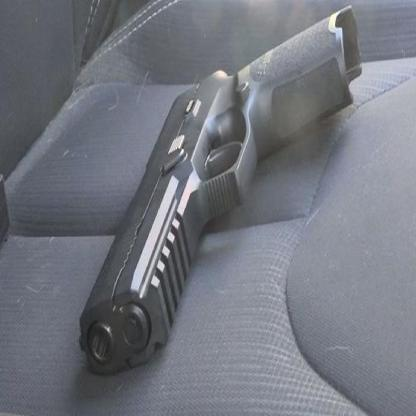Pistol: (79, 2, 361, 376)
